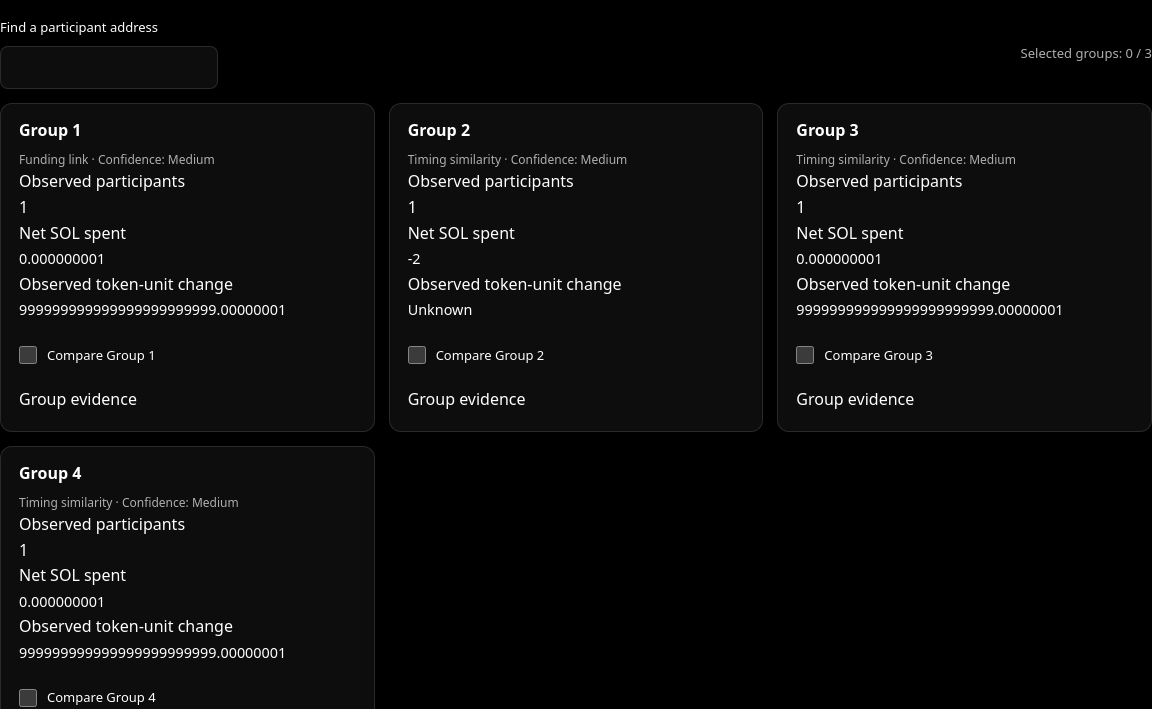
opens group history, qualification reasons and relationship provenance
(page scrolled)
Click the button named "Group evidence Group 1": coordinates (78, 400) [19,387,137,413]
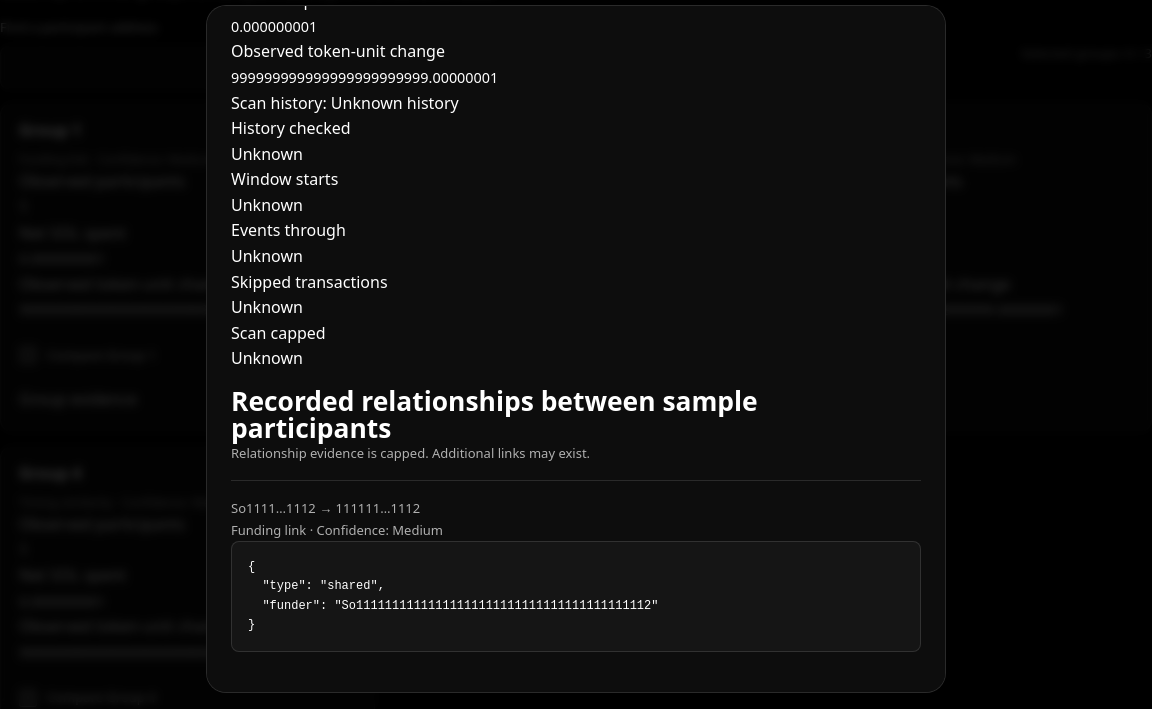
expect the heading "Scan history: Unknown history" is shown: met, box [231,92,459,114]
expect the text "Relationship evidence is capped. Additional links may exist." is shown: met, box [231,444,590,462]
expect the text "\"type\": \"shared\"" is shown: met, box [248,560,658,632]
